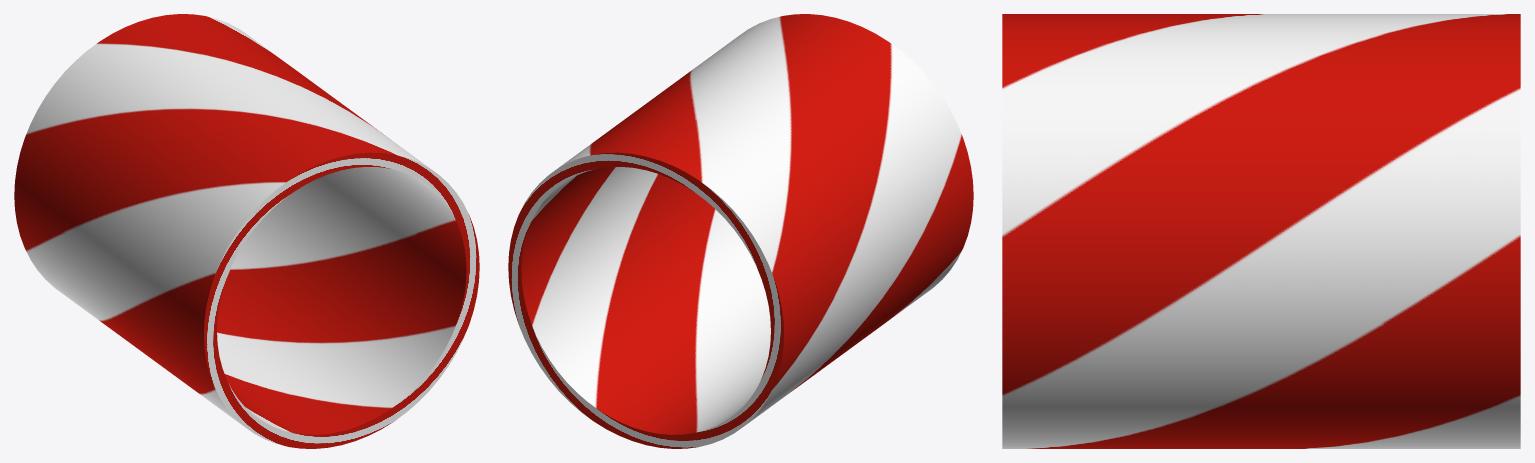
Rendered from Barrel.FBX.
The picture shows the model from 3 angles, left to right: view 1: azimuth 30°, elevation 25°; view 2: azimuth 150°, elevation 25°; view 3: azimuth 270°, elevation 25°; orthographic projection. The views are drawn at different scales.
Parts seen in each view (by area): view 1: Tube001; view 2: Tube001; view 3: Tube001.
Boxes of the visible parts, x1,y1,x2,y2 form: Tube001: (14, 14, 479, 448); Tube001: (508, 14, 973, 448); Tube001: (1002, 14, 1520, 448).
Bounding box in the file's own units: 21 × 21 × 25.
Materials: 1 (1 with a texture image).
